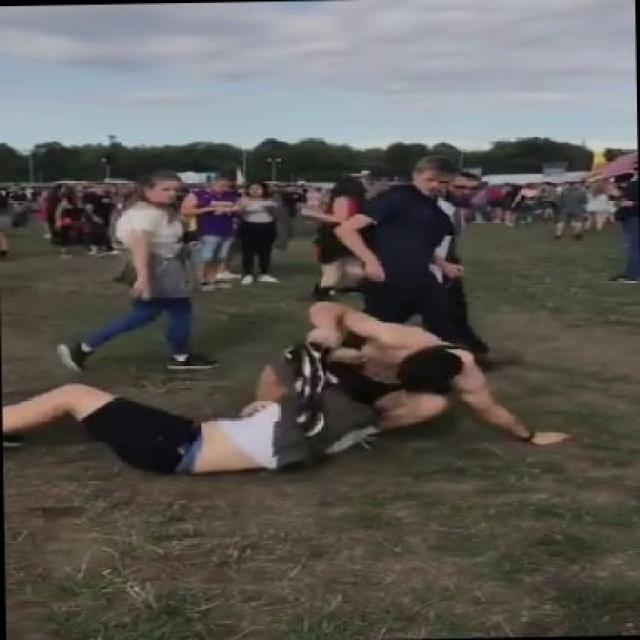fight: (0, 298, 571, 474), (336, 154, 449, 362)
non-fight: (52, 172, 217, 370), (233, 181, 281, 286)
